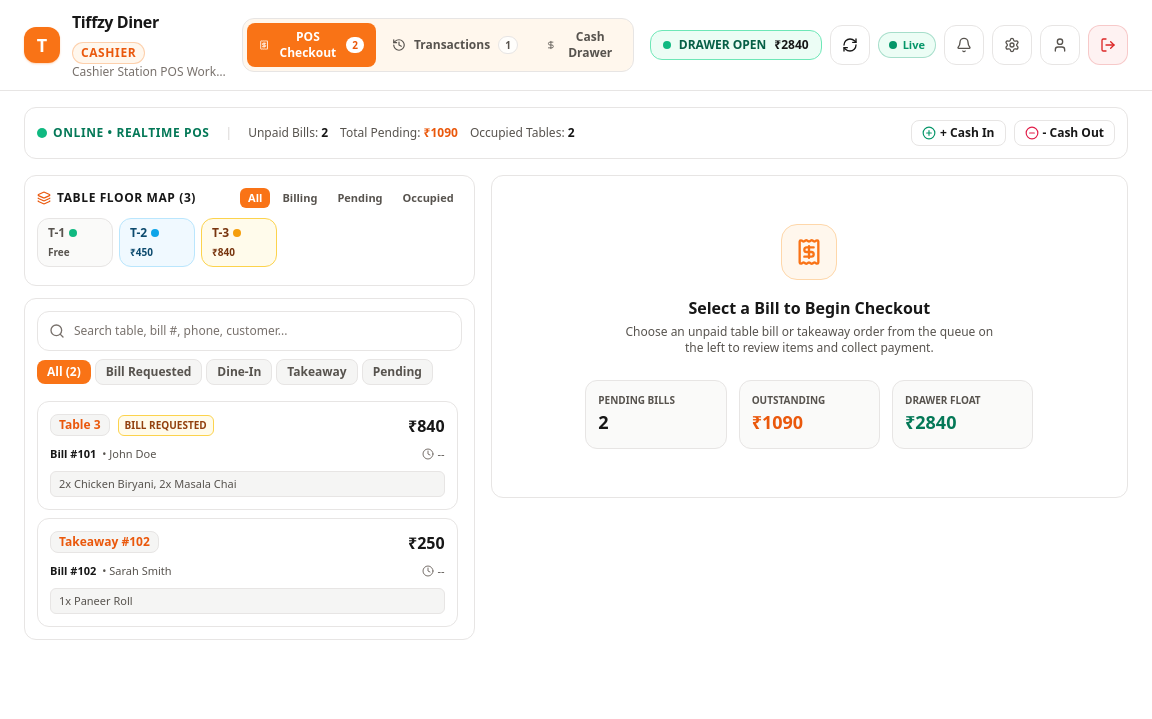
CashierStation — POS Workstation Redesign › 4. loads unpaid bills queue and allows selecting an order
Expected: the text "Bill #101" is shown, top-left (50, 446), bottom-right (96, 461)
Expected: the text "Takeaway #102" is shown, top-left (50, 531), bottom-right (159, 553)
// Click Table 3 bill
What coordinates should you click on to do the following:
click the button with test id "order-card-101"
I would click on:
 (80, 425)
Its box is top-left (37, 401), bottom-right (458, 510).
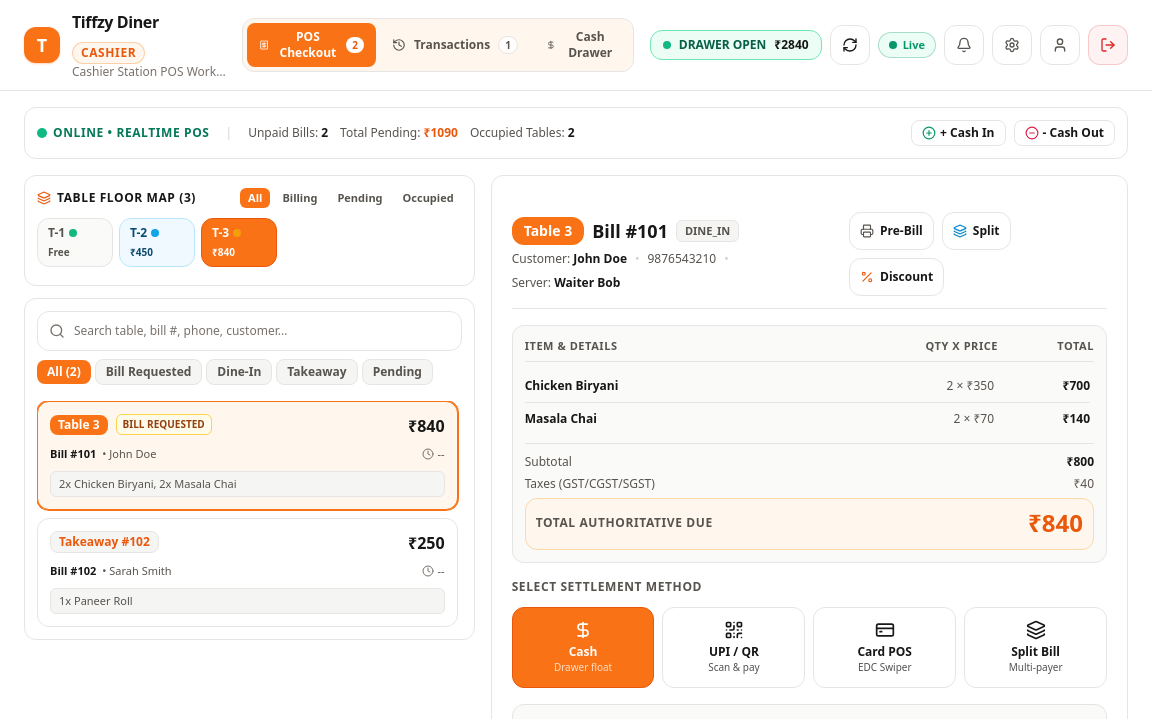
Expected: the text "Total Authoritative Due" is shown, top-left (536, 514), bottom-right (713, 530)
Expected: the text with test id "authoritative-grand-total" reads "₹840", top-left (1028, 506), bottom-right (1083, 538)
Expected: the text "Chicken Biryani" is shown, top-left (525, 378), bottom-right (618, 394)
